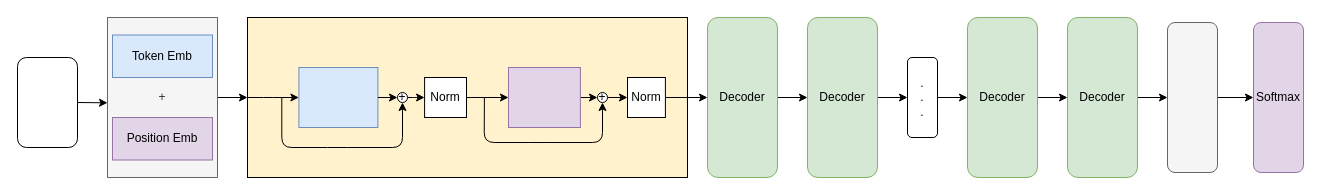
This 1321x195 diagram has some shape labels left out. The centre of each missing label's shape, as x and y in pixels:
"Feed Forward Network" goes at (544,97).
"Linear" goes at (1192,97).
"Masked Multi+Head Attention" goes at (338,97).
"Tokens" goes at (47,102).
